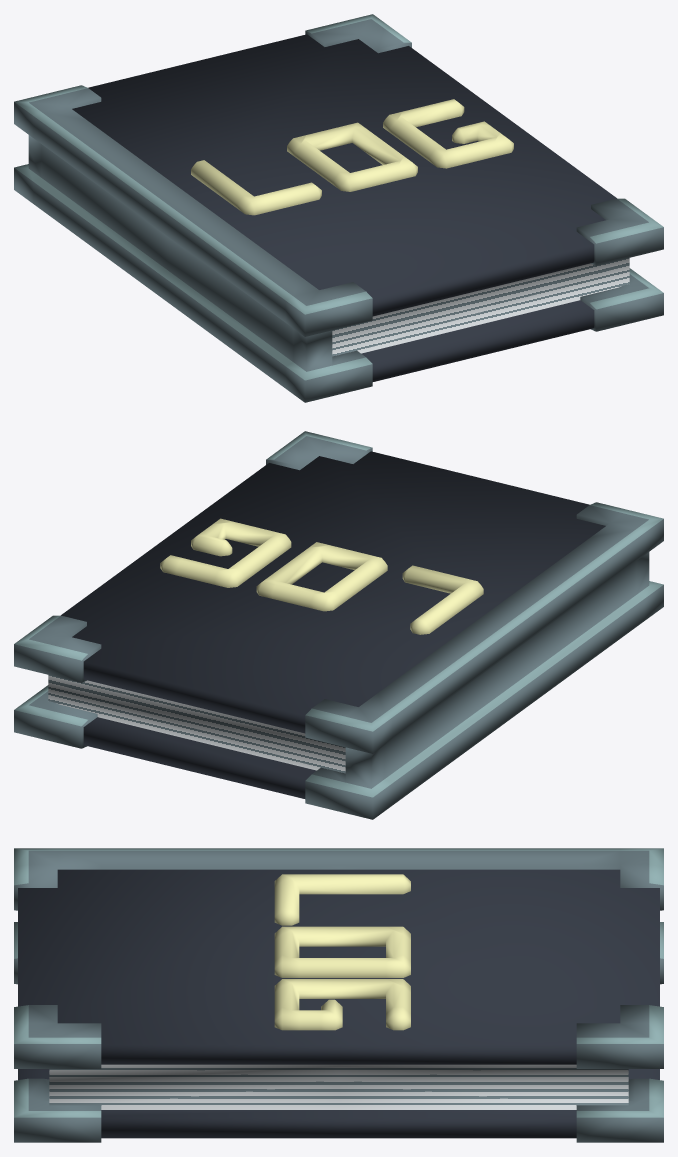
The model's file is LogPickup.fbx.
3 views of the same model, one above another, from view 1: azimuth 30°, elevation 25°; view 2: azimuth 150°, elevation 25°; view 3: azimuth 270°, elevation 25° (orthographic). The views are drawn at different scales.
Parts seen in each view (by area): view 1: mdlLogBook; view 2: mdlLogBook; view 3: mdlLogBook.
Boxes of the visible parts, x1=… form: mdlLogBook: x1=14, y1=14, x2=663, y2=402; mdlLogBook: x1=14, y1=431, x2=663, y2=819; mdlLogBook: x1=14, y1=848, x2=663, y2=1142.
Size of the model in its own units: 1.01 by 0.2675 by 1.42.
1 material, 1 textured.
